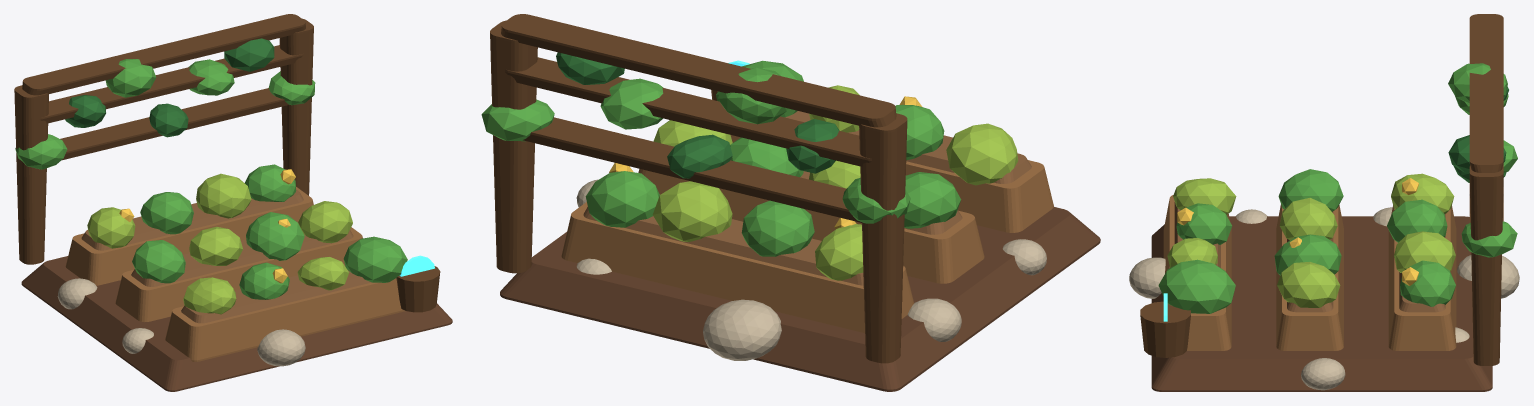
Rendered from potager.glb.
The picture shows the model from 3 angles, left to right: view 1: azimuth 30°, elevation 25°; view 2: azimuth 150°, elevation 25°; view 3: azimuth 270°, elevation 25°; orthographic projection. The views are drawn at different scales.
Parts seen in each view (by area): view 1: wood_dark, wood, plant_green, dirt_dark, leaf_warm, dirt, plant_dark, stone_mid, flower_gold, water; view 2: wood_dark, dirt_dark, wood, plant_green, leaf_warm, stone_mid, plant_dark, dirt; view 3: dirt_dark, plant_green, wood_dark, wood, leaf_warm, stone_mid, dirt, plant_dark, flower_gold.
Boxes of the visible parts, x1,y1,x2,y2 form: wood_dark: [14, 14, 440, 312]; wood: [65, 187, 405, 361]; plant_green: [15, 59, 407, 299]; dirt_dark: [21, 256, 452, 391]; leaf_warm: [87, 173, 352, 314]; dirt: [81, 189, 371, 323]; plant_dark: [65, 38, 274, 137]; stone_mid: [57, 278, 305, 366]; flower_gold: [119, 169, 295, 283]; water: [399, 255, 434, 276]; wood_dark: [490, 14, 907, 363]; dirt_dark: [500, 207, 1100, 391]; wood: [561, 135, 1053, 333]; plant_green: [481, 60, 961, 256]; leaf_warm: [652, 85, 1018, 280]; stone_mid: [576, 179, 1046, 360]; plant_dark: [556, 52, 839, 178]; dirt: [583, 111, 1031, 285]; dirt_dark: [1151, 216, 1492, 391]; plant_green: [1158, 63, 1517, 313]; wood_dark: [1140, 14, 1503, 365]; wood: [1163, 195, 1456, 350]; leaf_warm: [1167, 173, 1455, 307]; stone_mid: [1129, 207, 1519, 390]; dirt: [1174, 202, 1445, 312]; plant_dark: [1448, 86, 1508, 182]; flower_gold: [1177, 178, 1418, 285].
Size of the model in its own units: 1.98 by 1.25 by 1.95.
